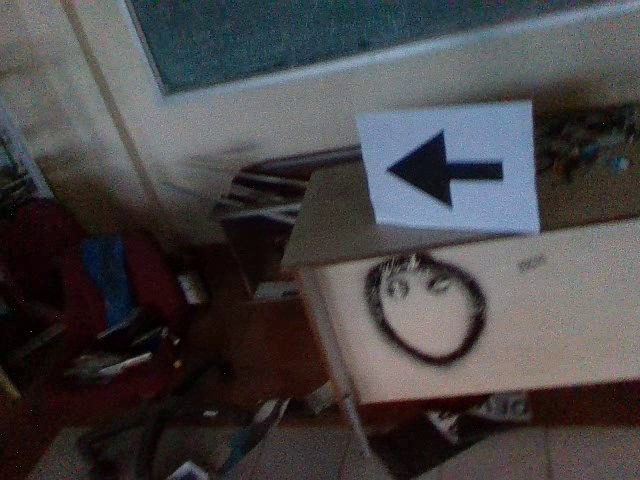Left: (381, 127, 508, 216)
